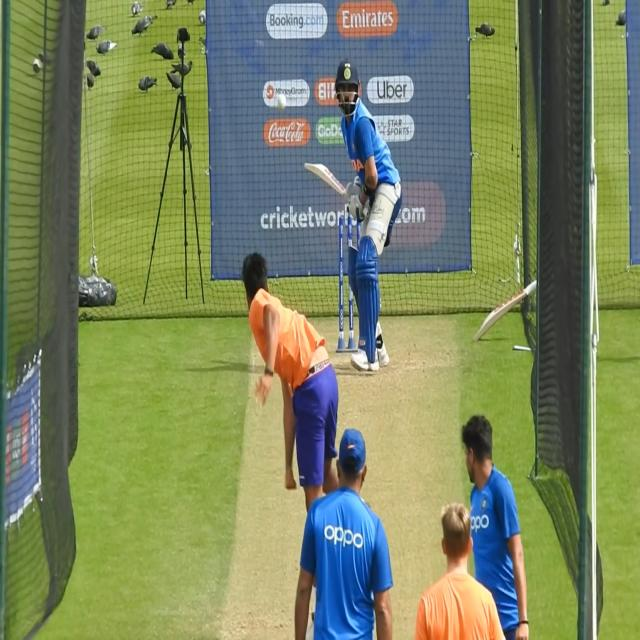Cricket ball: (277, 93, 288, 113)
